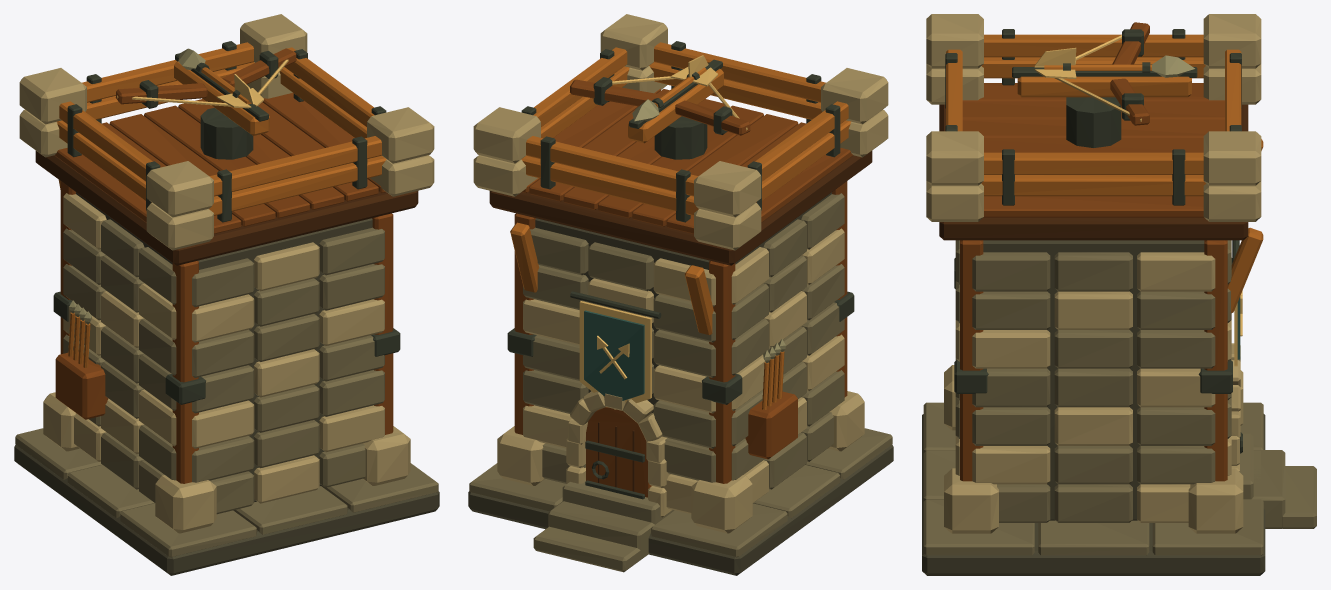
The model's file is tower_archer_level_3.glb.
3 views of the same model, side by side, from view 1: azimuth 30°, elevation 25°; view 2: azimuth 150°, elevation 25°; view 3: azimuth 270°, elevation 25° (orthographic). The views are drawn at different scales.
Visible parts, largest first — view 1: body, ballista, aim_pivot, loaded_bolt; view 2: body, ballista, aim_pivot, loaded_bolt; view 3: body, ballista, aim_pivot, loaded_bolt.
Part boxes in pixels (bbox=[...]): body: bbox=[14, 14, 439, 575]; ballista: bbox=[115, 48, 296, 135]; aim_pivot: bbox=[200, 107, 253, 159]; loaded_bolt: bbox=[178, 48, 263, 108]; body: bbox=[468, 14, 893, 575]; ballista: bbox=[570, 59, 750, 143]; aim_pivot: bbox=[654, 116, 707, 159]; loaded_bolt: bbox=[632, 55, 717, 121]; body: bbox=[922, 14, 1316, 575]; ballista: bbox=[1012, 22, 1197, 125]; aim_pivot: bbox=[1066, 97, 1121, 147]; loaded_bolt: bbox=[1034, 47, 1195, 79].
Bounding box in the file's own units: 2.5 × 3.68 × 2.88.
